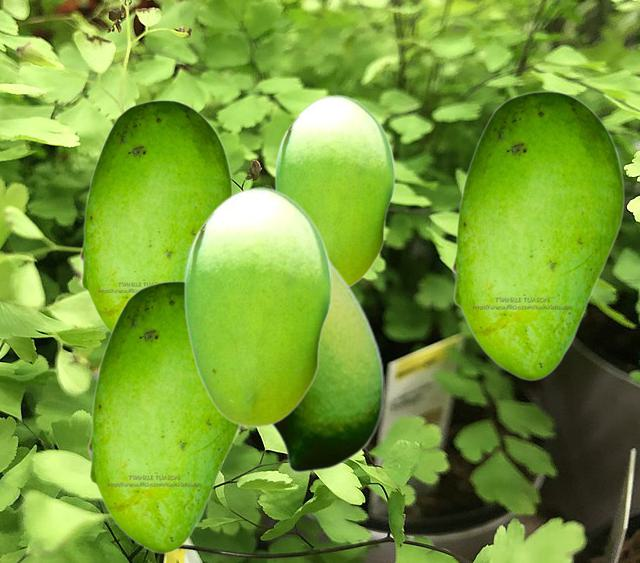green_mango: (186, 187, 383, 472), (451, 90, 624, 380), (87, 280, 240, 553), (79, 99, 232, 332), (183, 186, 331, 426), (274, 94, 394, 288)
